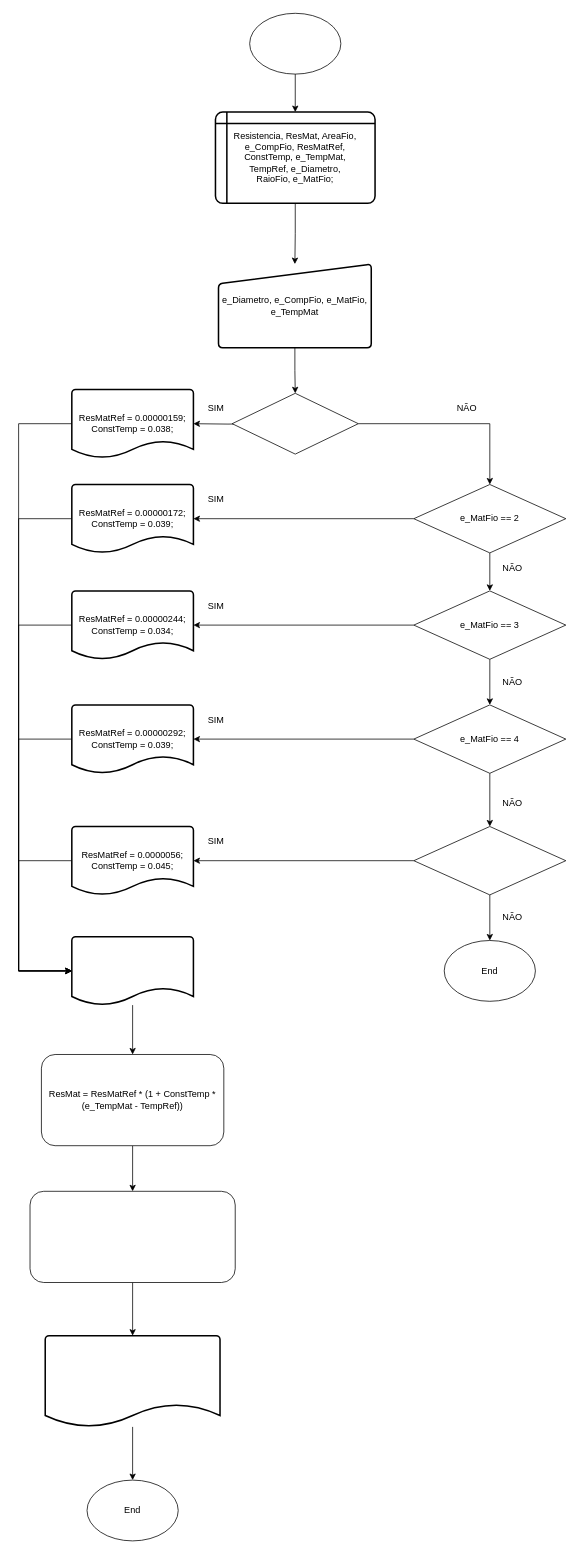
This 579x1554 diagram has some shape labels left out. Each missing label, with the box of its shape:
e_MatFio == 1: (231, 393, 358, 454)
e_MatFio == 5: (413, 826, 566, 895)
Resistencia: (44, 1335, 220, 1427)
Resistencia = ResMat * (e_CompFio / AreaFio): (29, 1191, 235, 1282)
Start: (249, 13, 341, 74)
TempRef = 20;: (71, 936, 194, 1005)
